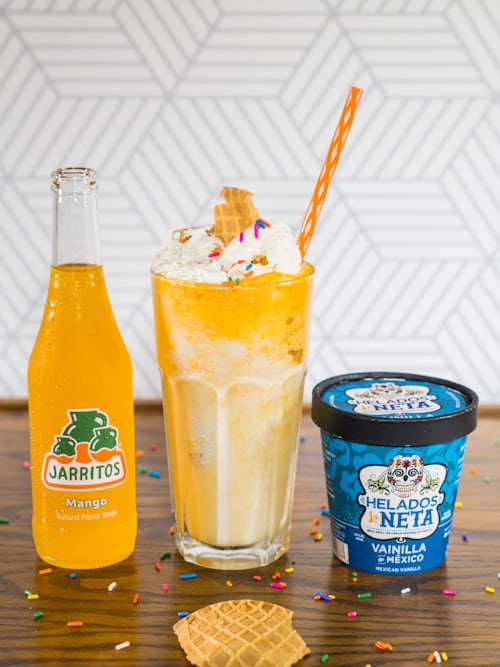Bottle: (17, 167, 151, 577)
Glass: (145, 188, 307, 576), (305, 369, 495, 578)
